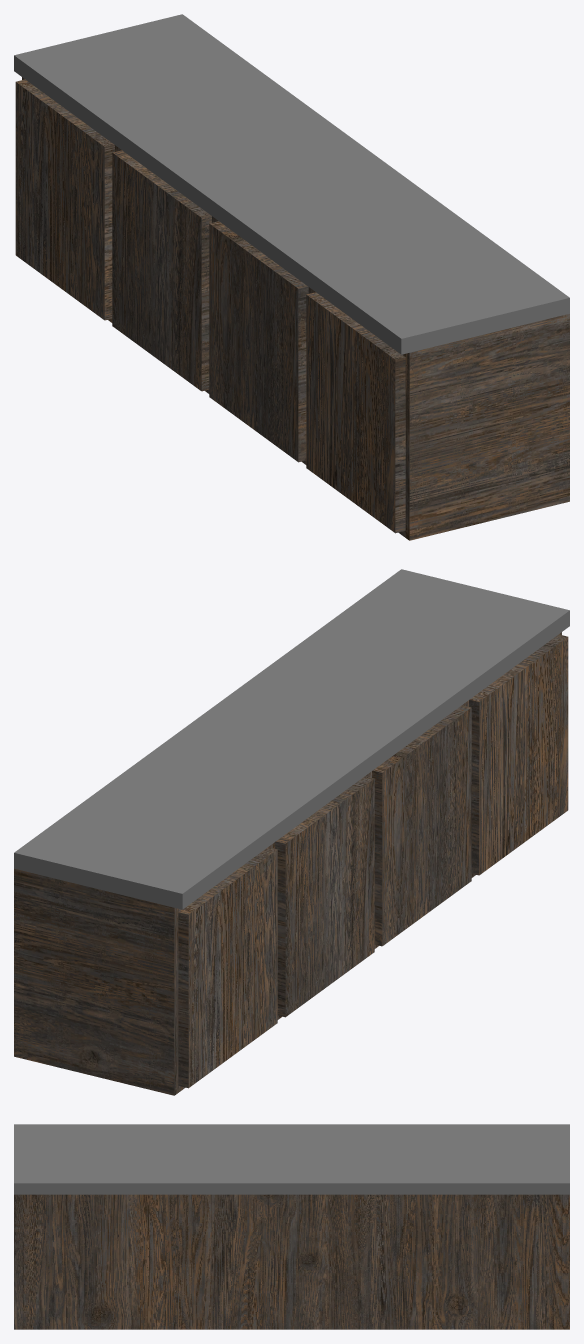
Rendered from Cabinet_03.fbx.
3 views of the same model, one above another, from view 1: azimuth 30°, elevation 25°; view 2: azimuth 150°, elevation 25°; view 3: azimuth 270°, elevation 25° (orthographic). The views are drawn at different scales.
Parts seen in each view (by area): view 1: propCabinet_03; view 2: propCabinet_03; view 3: propCabinet_03.
Part boxes in pixels (<box>): propCabinet_03: <box>14,14,569,540</box>; propCabinet_03: <box>14,569,569,1095</box>; propCabinet_03: <box>14,1124,569,1329</box>.
Size of the model in its own units: 74.27 by 84.7 by 292.
Materials: 2 (1 with a texture image).
